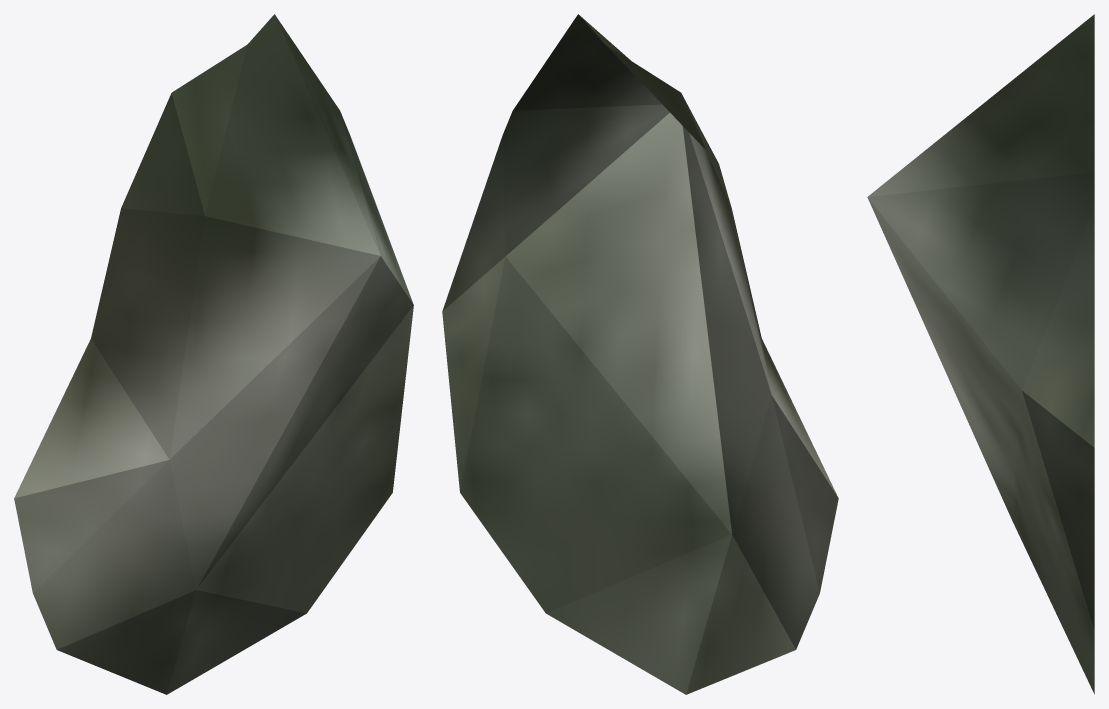
3 views of the same model, side by side, from view 1: azimuth 30°, elevation 25°; view 2: azimuth 150°, elevation 25°; view 3: azimuth 270°, elevation 25° (orthographic). The views are drawn at different scales.
Size of the model in its own units: 0.2934 by 0.4629 by 0.1334.
1 material, 1 textured.
